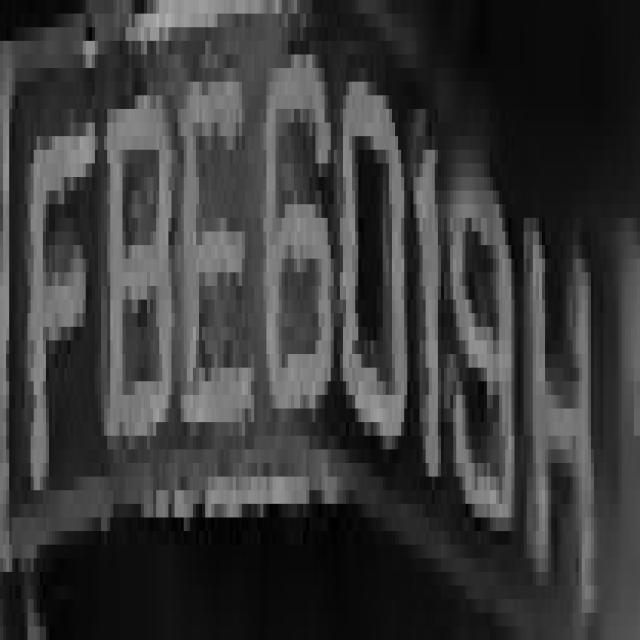0: (334, 41, 410, 531)
1: (398, 109, 453, 531)
6: (260, 41, 331, 449)
9: (441, 150, 517, 585)
B: (95, 55, 178, 490)
E: (175, 68, 257, 449)
F: (18, 68, 98, 545)
H: (514, 150, 591, 613)
